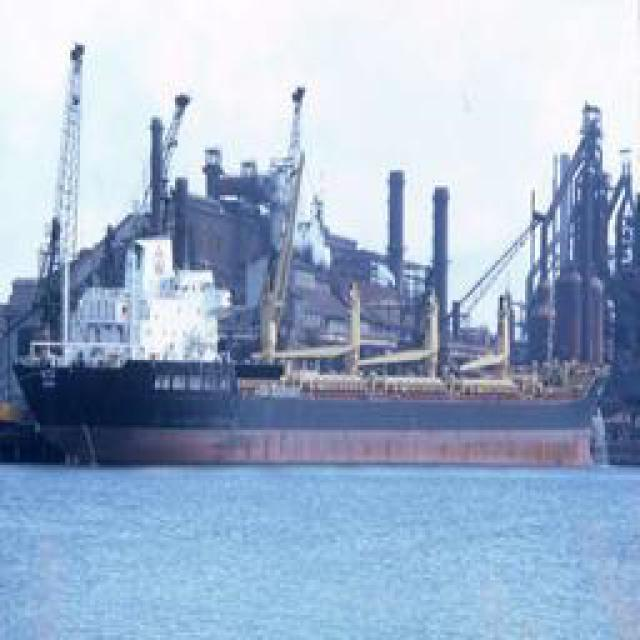Ship: (16, 232, 614, 473)
